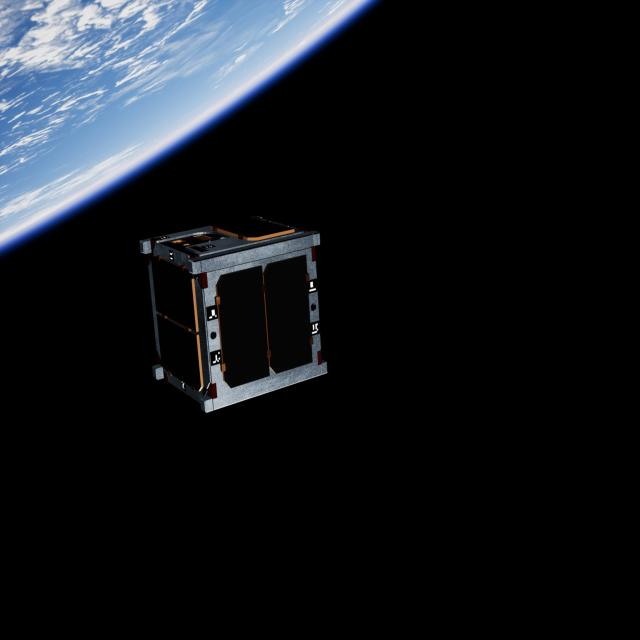medium_debris: (141, 202, 341, 417)
